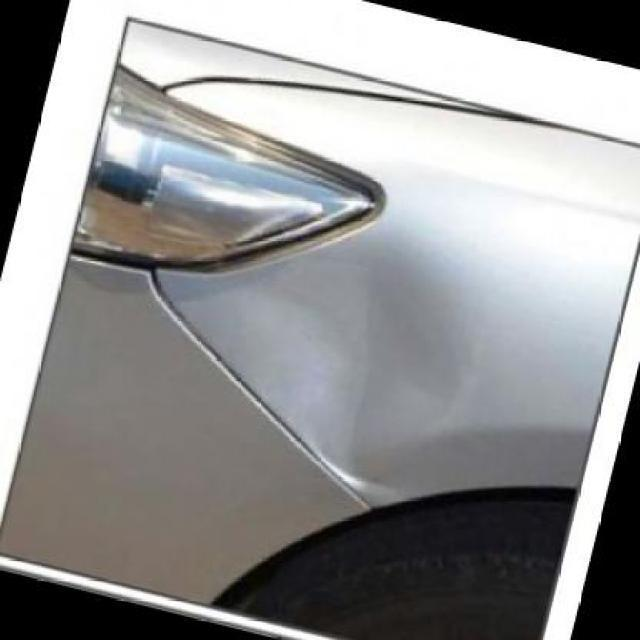dent: (275, 246, 488, 484)
